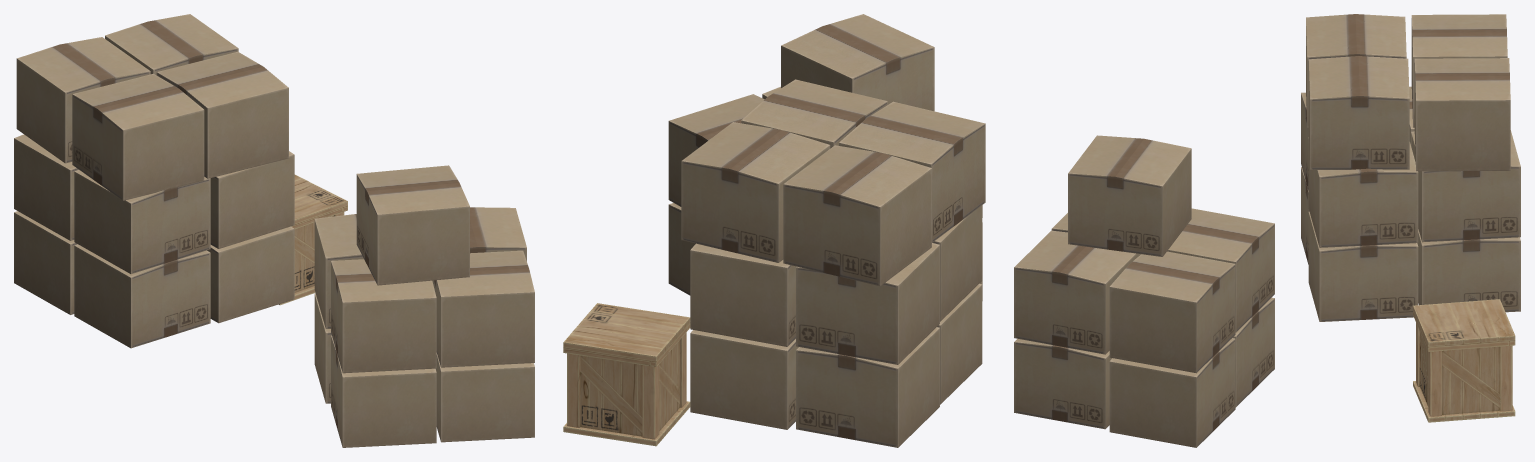
File: P_NEWMaket01_after15.obj
3 renders of one model, left to right at view 1: azimuth 30°, elevation 25°; view 2: azimuth 150°, elevation 25°; view 3: azimuth 270°, elevation 25°, orthographic. The views are drawn at different scales.
Size of the model in its own units: 2.91 by 2.11 by 3.61.
Materials: 22 (22 with a texture image).
